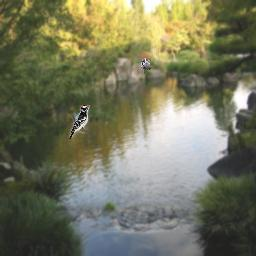Sparrow: (141, 58, 151, 73)
Woodpecker: (69, 105, 90, 139)
